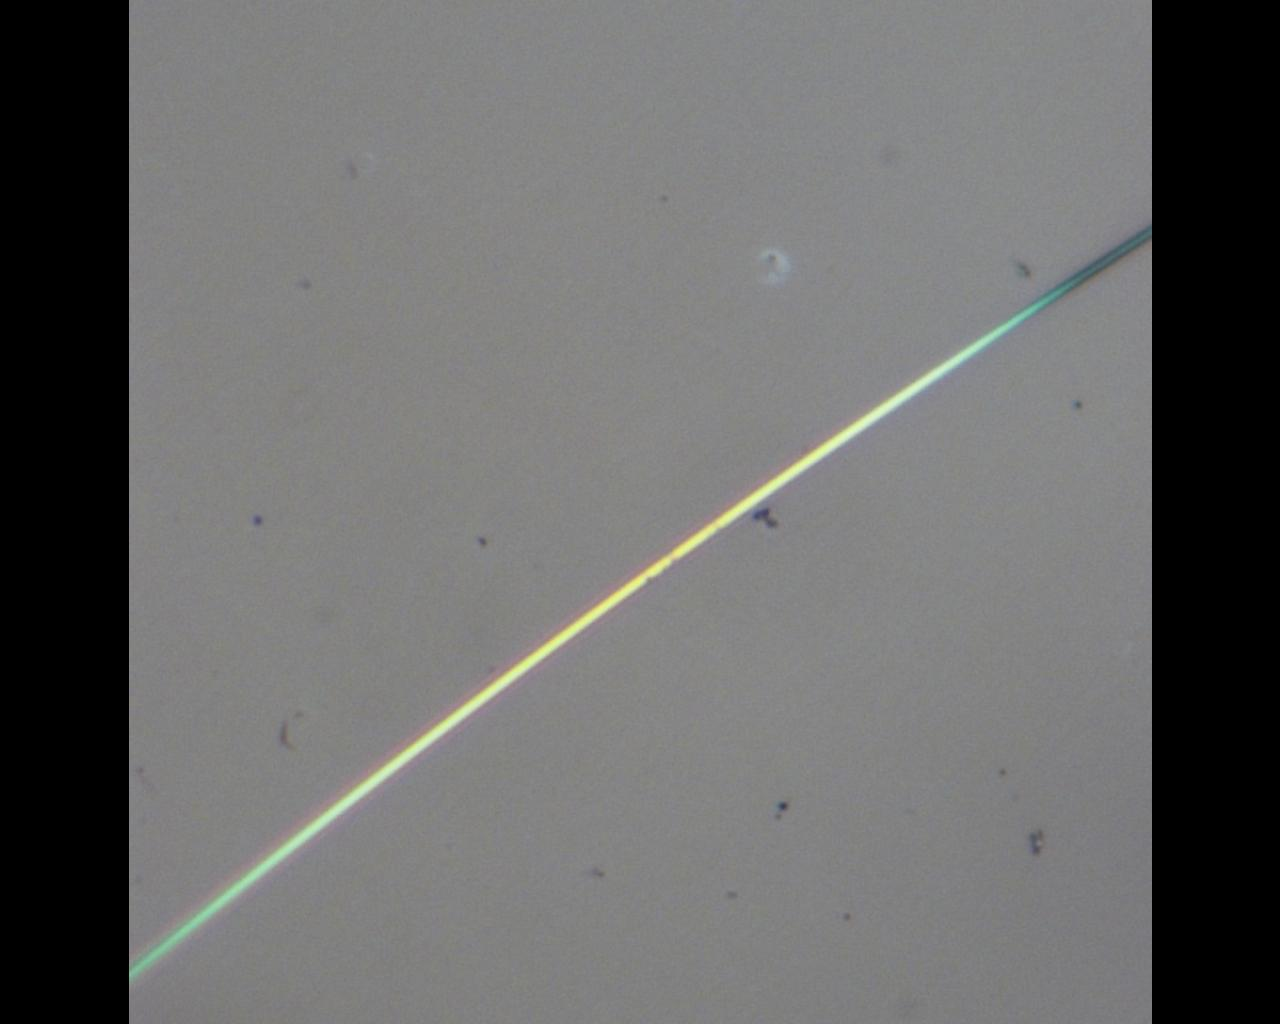fiber: (20, 0, 614, 382), (614, 676, 1280, 702)
